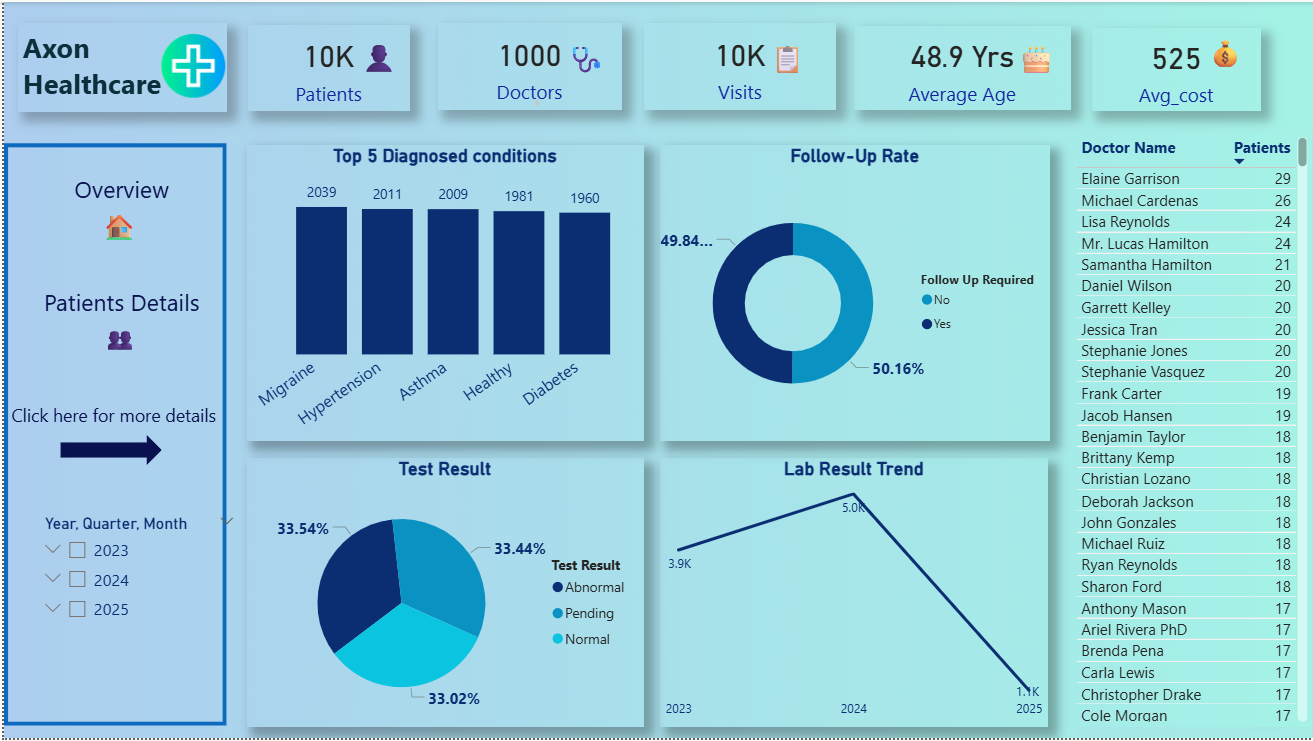

This screenshot's page, from the dashboard's own definition file:
{"tool":"tableau","page":{"name":"Dashboard 2","canvas":[1000,1000],"units":"permille","ordinal":0},"visuals":[{"type":"image","box":[4.4,10.3,991.3,979.5]},{"type":"image","param":"Image/Screenshot 2026-03-04 130648.png","box":[6.4,20.5,201.7,962.8]},{"type":"image","param":"Image/Screenshot 2026-03-04 131654.png","box":[206,23.1,732.6,957.7]},{"type":"worksheet","title":"Sheet 2","mark":"Automatic","box":[354.7,23.1,71.5,148.7]},{"type":"worksheet","title":"Sheet 4","mark":"Automatic","box":[595,30.8,84.2,161.5]},{"type":"worksheet","title":"Sheet 11","mark":"Automatic","box":[721.7,34.6,85.3,157.7]},{"type":"worksheet","title":"Sheet 5","mark":"Automatic","box":[843.5,34.6,104.9,135.9]},{"type":"worksheet","title":"Sheet 1","mark":"Automatic","box":[232.4,51.3,79.9,165.4]},{"type":"worksheet","title":"Sheet 3","mark":"Automatic","box":[466.9,52.6,95.3,157.7]},{"type":"filter","title":"Sheet 10","param":"[federated.1peiui60d31iv01h50fkc1fzq2ho].[yr:Calculation_0959092425551878:ok]","box":[32.6,205.1,141.8,153.8]},{"type":"worksheet","title":"Sheet 7","mark":"Circle","box":[459.2,233.3,207.1,333.3]},{"type":"worksheet","title":"Sheet 8","mark":"Automatic","rows":["Visit ID"],"cols":["Follow Up Required"],"box":[709.8,235.9,186.4,333.3]},{"type":"worksheet","title":"Sheet 6","mark":"Automatic","rows":["Diagnosis"],"cols":["Diagnosis Code"],"box":[215.2,255.1,207.6,294.9]},{"type":"filter","title":"Sheet 8","param":"[federated.1peiui60d31iv01h50fkc1fzq2ho].[none:Status:nk]","box":[31.5,361.5,131,153.8]},{"type":"filter","title":"Sheet 8","param":"[federated.1peiui60d31iv01h50fkc1fzq2ho].[none:Visit Type:nk]","box":[30.4,525.6,141.3,183.3]},{"type":"worksheet","title":"Sheet 10","mark":"Automatic","rows":["Treatment Cost"],"cols":["Visit Date"],"box":[509.3,616.7,391.7,333.3]},{"type":"worksheet","title":"Sheet 9","mark":"Automatic","cols":["Doctor Name"],"box":[212.8,621.8,271.6,333.3]},{"type":"filter","title":"Sheet 9","param":"[federated.1peiui60d31iv01h50fkc1fzq2ho].[none:Specialty:nk]","box":[25.4,718,157.8,212.8]}]}

Visuals, with their boxes on the dashboard's canvas, which has no fixed pixel size, in thousandths of its width and height (x1, y1, x2, y2). These are canvas units, not pixel positions in the 1313x741 screenshot, which may show the page scaled, cropped or inside an application window:
image: bbox=(4, 10, 996, 990)
image: bbox=(6, 20, 208, 983)
image: bbox=(206, 23, 939, 981)
"Sheet 2" worksheet: bbox=(355, 23, 426, 172)
"Sheet 4" worksheet: bbox=(595, 31, 679, 192)
"Sheet 11" worksheet: bbox=(722, 35, 807, 192)
"Sheet 5" worksheet: bbox=(844, 35, 948, 170)
"Sheet 1" worksheet: bbox=(232, 51, 312, 217)
"Sheet 3" worksheet: bbox=(467, 53, 562, 210)
"Sheet 10" filter: bbox=(33, 205, 174, 359)
"Sheet 7" worksheet (Circle marks): bbox=(459, 233, 666, 567)
"Sheet 8" worksheet: bbox=(710, 236, 896, 569)
"Sheet 6" worksheet: bbox=(215, 255, 423, 550)
"Sheet 8" filter: bbox=(32, 362, 162, 515)
"Sheet 8" filter: bbox=(30, 526, 172, 709)
"Sheet 10" worksheet: bbox=(509, 617, 901, 950)
"Sheet 9" worksheet: bbox=(213, 622, 484, 955)
"Sheet 9" filter: bbox=(25, 718, 183, 931)
